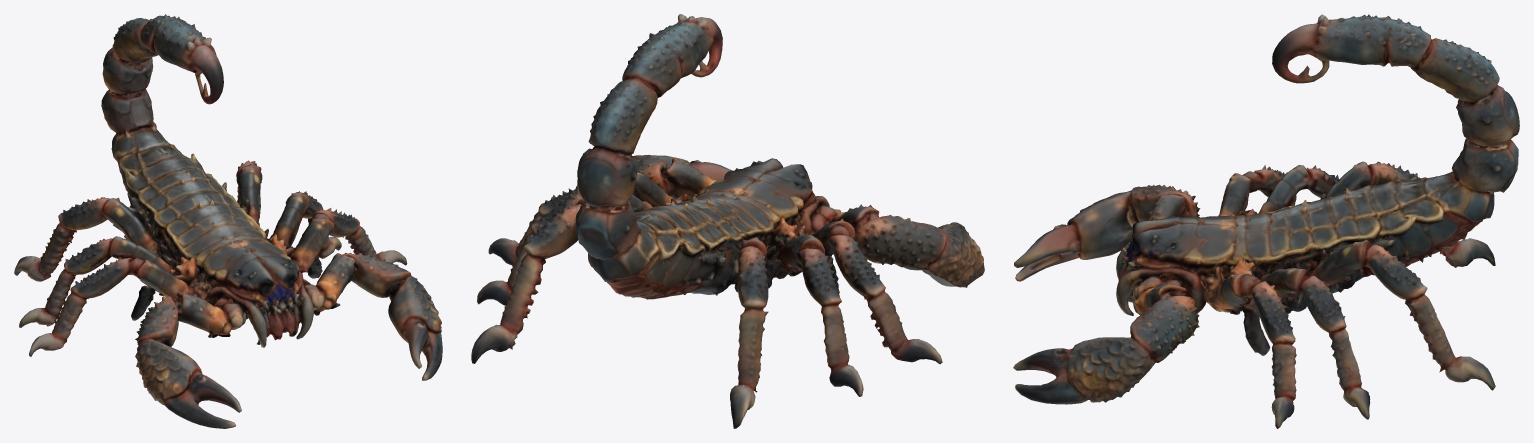
The model's file is Black Scorpion_final.glb.
3 views of the same model, side by side, from view 1: azimuth 30°, elevation 25°; view 2: azimuth 150°, elevation 25°; view 3: azimuth 270°, elevation 25° (orthographic). The views are drawn at different scales.
Parts seen in each view (by area): view 1: Mesh1.0; view 2: Mesh1.0; view 3: Mesh1.0.
Part boxes in pixels (box(x1,y1,x2,y2)): Mesh1.0: box(14, 14, 442, 428); Mesh1.0: box(471, 14, 984, 428); Mesh1.0: box(1013, 14, 1519, 428).
Size of the model in its own units: 1.92 by 1.33 by 1.9.
Materials: 1 (1 with a texture image).
